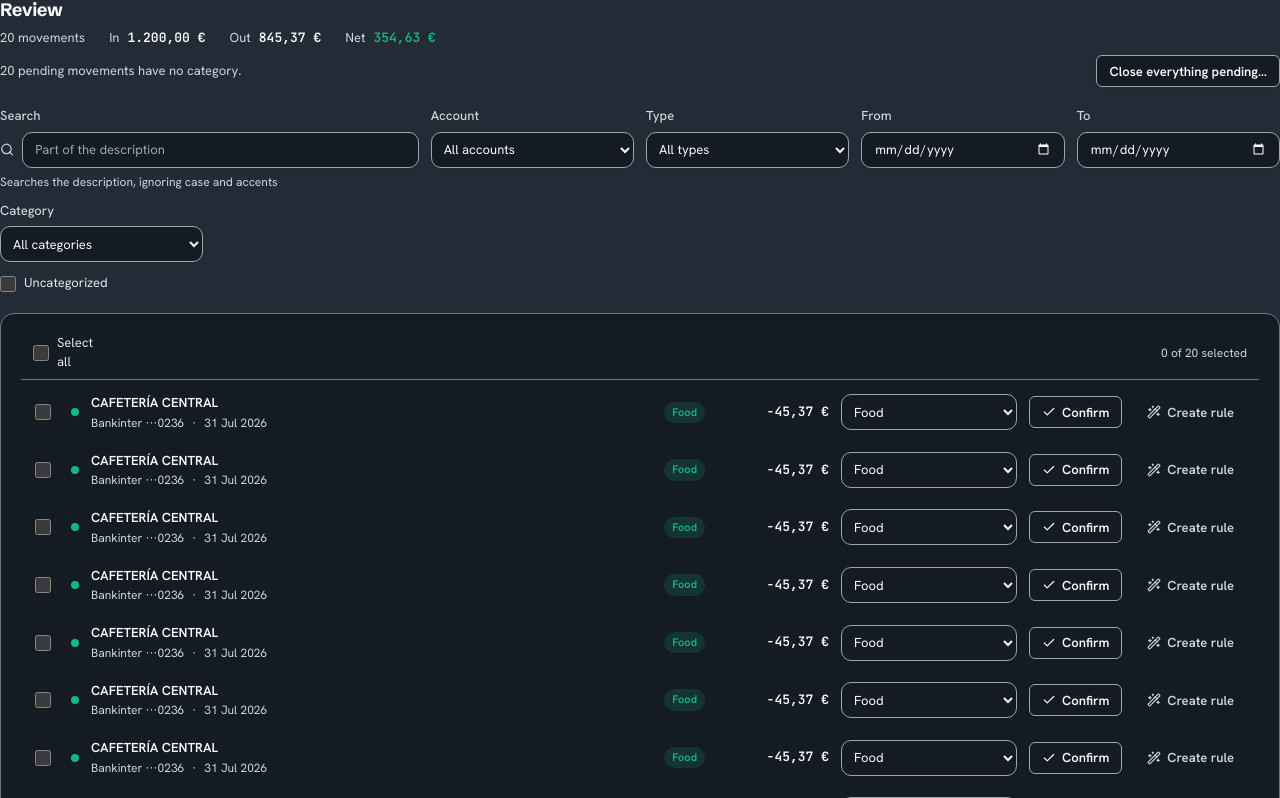
it: ReviewView › asking before a big bulk action (R8) › asks first from 20 up, and cancelling sends nothing and keeps the selection
The width and height of the screenshot is (1280, 798).
Click the checkbox labelled "Select all" at (41,352), box [33, 344, 49, 360]
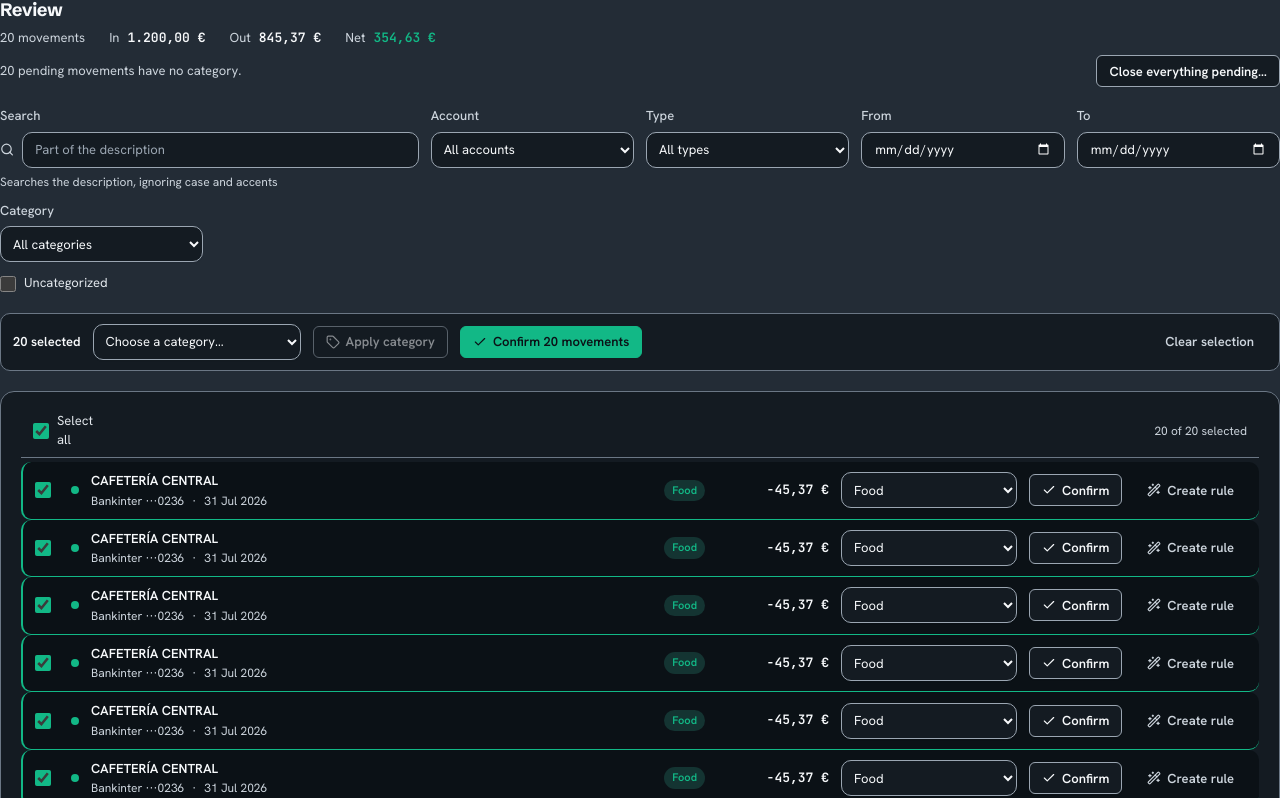
Click the button with test id "confirm-selected" at (551,342), box [460, 326, 642, 358]
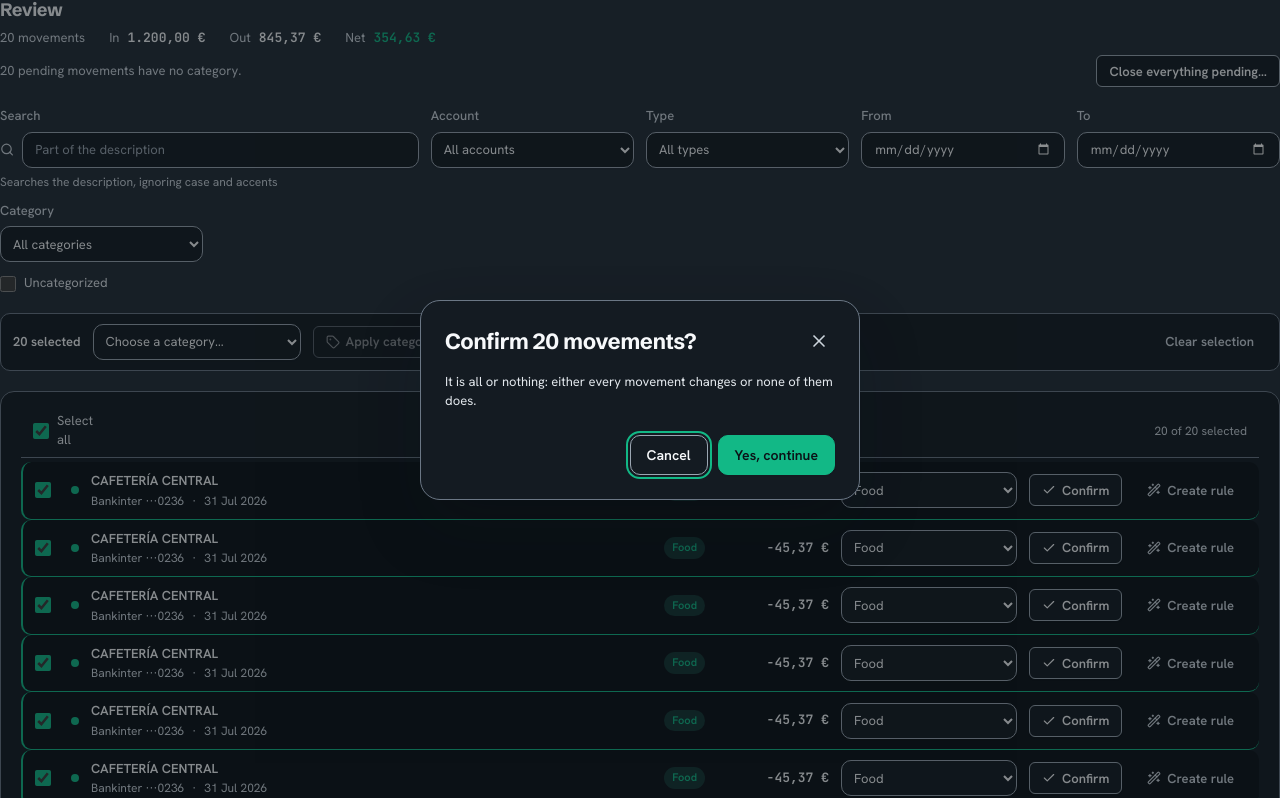
expect the dialog shows "Confirm 20 movements?": met, box [445, 328, 696, 355]
Click the button with test id "bulk-cancel" at (668,455), box [630, 435, 708, 475]
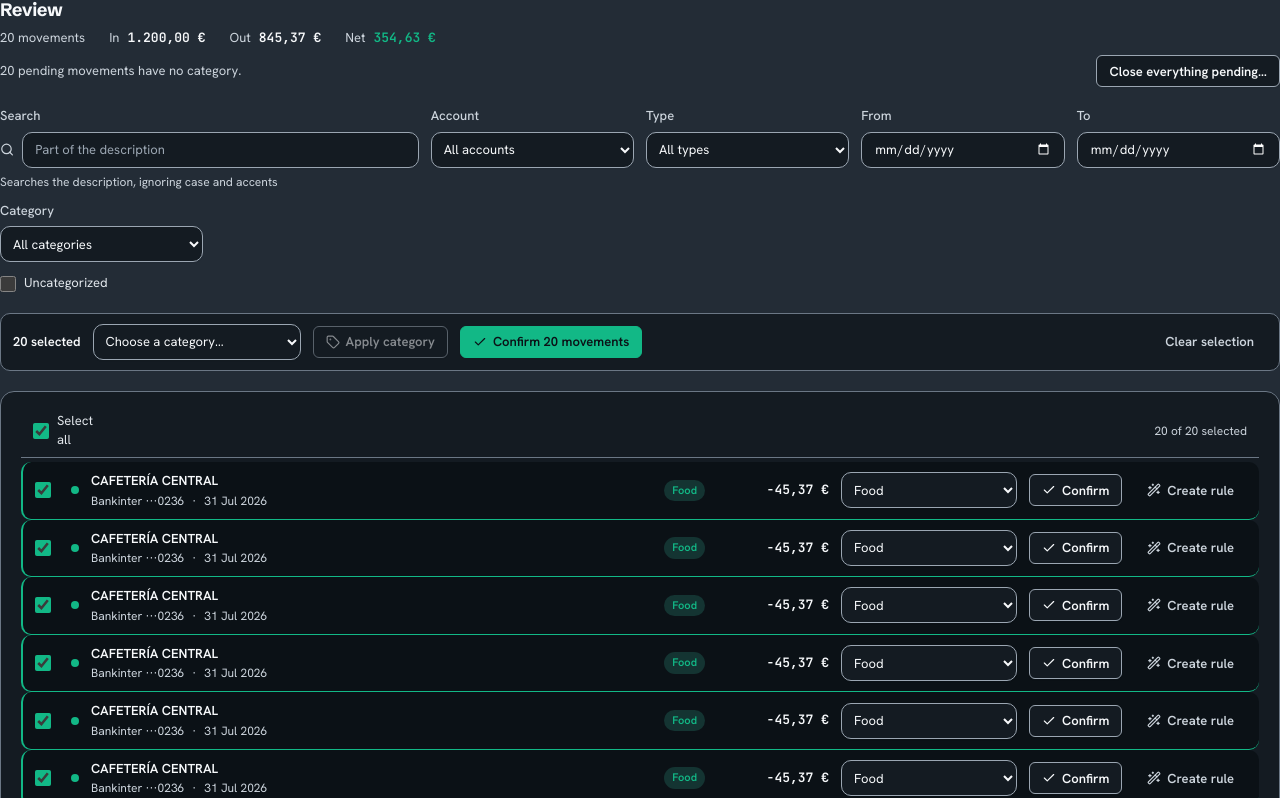
expect the text with test id "selected-count" reads "20 selected": met, box [13, 333, 81, 350]
expect the dialog is gone: met
